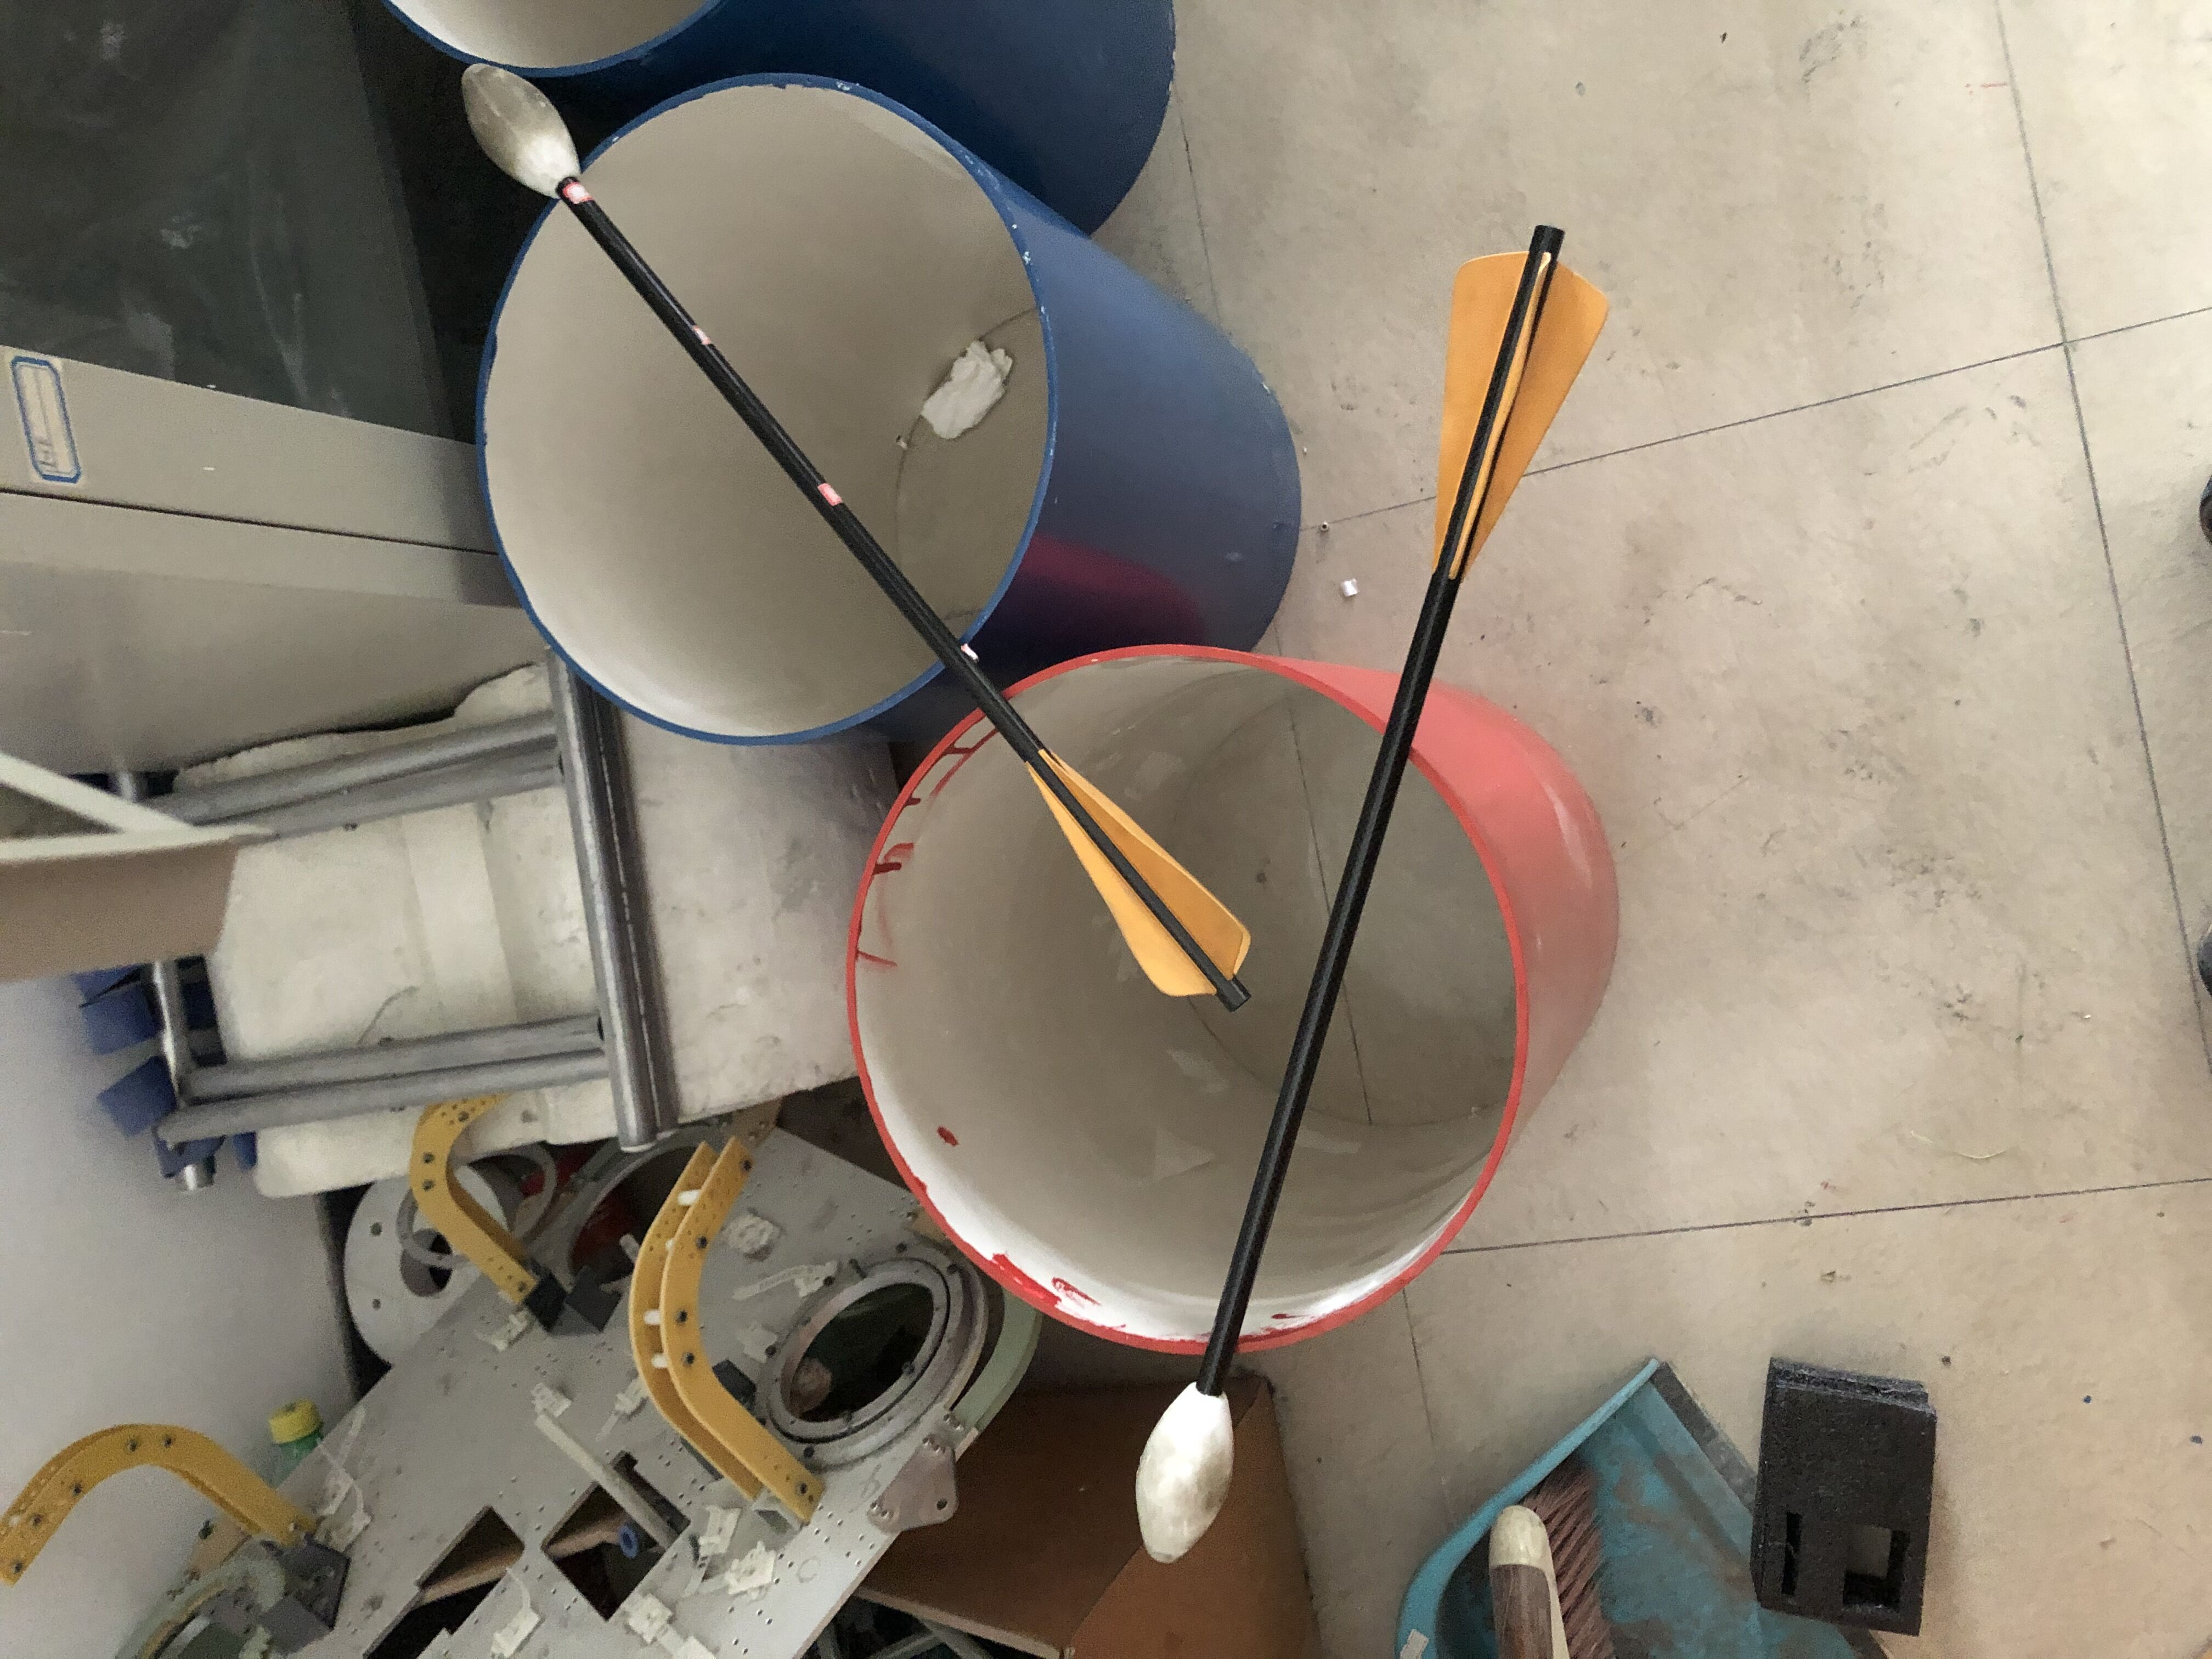arrow: (456, 61, 1254, 1016), (1134, 227, 1611, 1568)
arrowFront: (1136, 1382, 1238, 1568), (453, 58, 585, 195)
